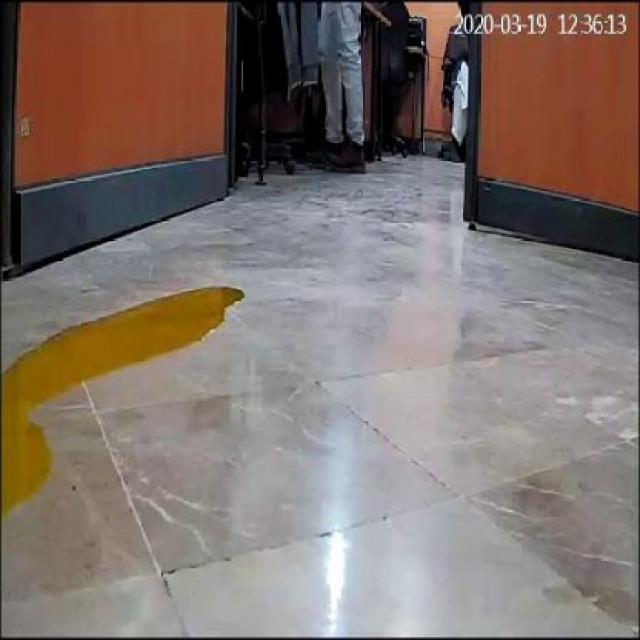spill: (2, 280, 242, 509)
